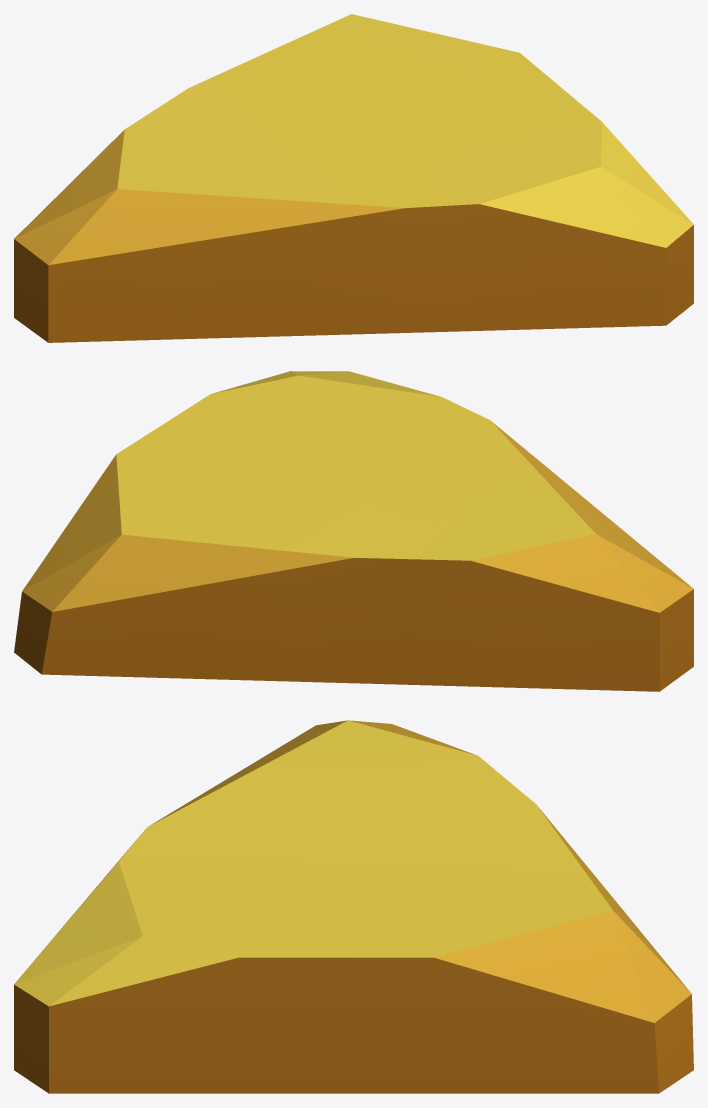
Rendered from button_yellow3.fbx.
3 views of the same model, one above another, from view 1: azimuth 30°, elevation 25°; view 2: azimuth 150°, elevation 25°; view 3: azimuth 270°, elevation 25° (orthographic). The views are drawn at different scales.
Parts seen in each view (by area): view 1: button_yellow3; view 2: button_yellow3; view 3: button_yellow3.
Boxes of the visible parts, x1=… form: button_yellow3: x1=14, y1=14, x2=693, y2=342; button_yellow3: x1=14, y1=371, x2=693, y2=691; button_yellow3: x1=14, y1=720, x2=693, y2=1093.
Bounding box in the file's own units: 14.68 × 3.31 × 14.93.
